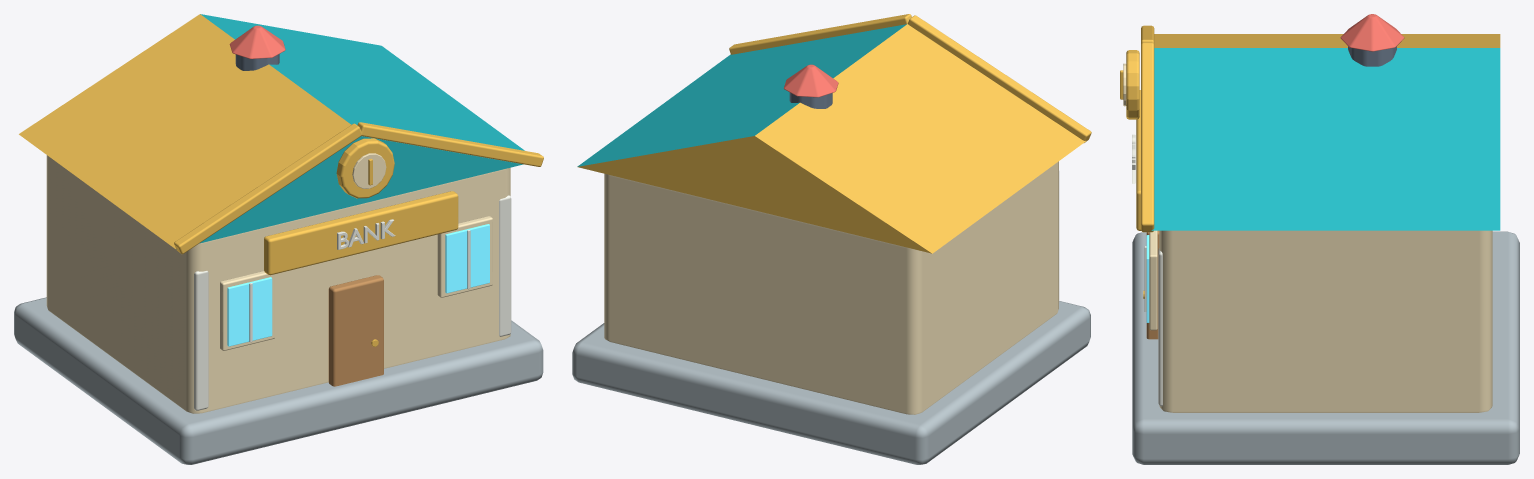
The model's file is TownBank.fbx.
3 renders of one model, left to right at view 1: azimuth 30°, elevation 25°; view 2: azimuth 150°, elevation 25°; view 3: azimuth 270°, elevation 25°, orthographic. The views are drawn at different scales.
Parts seen in each view (by area): view 1: Bold pitched roof.001, Main painted walls.001, Raised stone foundation.001, Sign board.001, Front oak door, Front roof fascia left.001, Front window blue glass.003, Front roof fascia right.001, Front window blue glass.004, Bank column left, Coin crest, Bank column right (+5 smaller); view 2: Main painted walls.001, Bold pitched roof.001, Raised stone foundation.001, Front roof fascia left.001, Front roof fascia right.001, Roof vent cap.001; view 3: Bold pitched roof.001, Main painted walls.001, Raised stone foundation.001, Front roof fascia right.001, Roof vent cap.001, Coin crest, Front window cream frame.004, Bank column right, Roof vent.001, Sign board.001.
Part boxes in pixels (x1,y1,x2,y2): Bold pitched roof.001: (19,14,524,248); Main painted walls.001: (46,155,510,413); Raised stone foundation.001: (14,297,543,464); Sign board.001: (264,191,458,275); Front oak door: (328,275,383,386); Front roof fascia left.001: (174,123,361,254); Front window blue glass.003: (227,277,272,346); Front roof fascia right.001: (357,122,543,166); Front window blue glass.004: (445,224,489,293); Bank column left: (194,271,208,410); Coin crest: (336,138,394,198); Bank column right: (499,195,511,336); Main painted walls.001: (604,161,1058,414); Bold pitched roof.001: (577,24,1085,253); Raised stone foundation.001: (572,301,1090,464); Front roof fascia left.001: (908,15,1091,142); Front roof fascia right.001: (729,14,911,54); Roof vent cap.001: (783,64,838,97); Bold pitched roof.001: (1151,34,1500,230); Main painted walls.001: (1159,230,1492,412); Raised stone foundation.001: (1132,231,1519,464); Front roof fascia right.001: (1141,42,1154,232); Roof vent cap.001: (1340,14,1404,51); Coin crest: (1126,50,1139,119); Front window cream frame.004: (1149,230,1157,330); Bank column right: (1158,248,1162,406); Roof vent.001: (1348,46,1396,66); Sign board.001: (1136,90,1141,230).
Size of the model in its own units: 1208 by 1012 by 1031.
